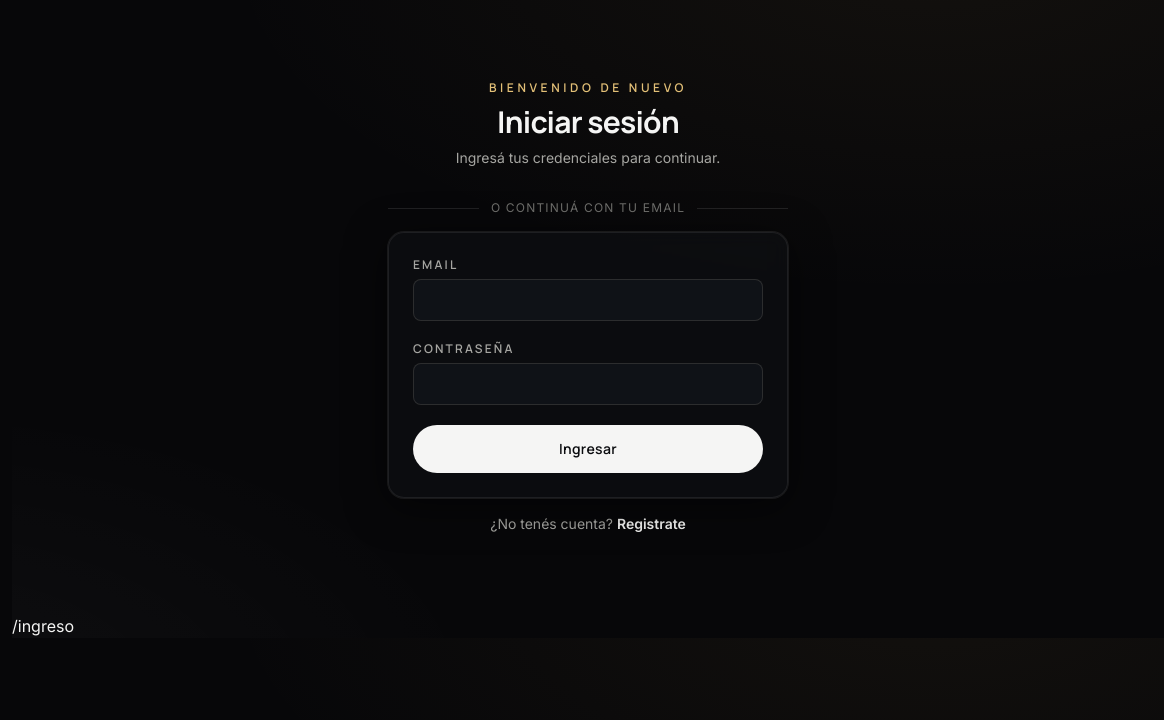
Scenario: InicioSesion › muestra el mensaje de error del backend cuando el login falla
This screenshot has width=1164, height=720.
Type "ana@ejemplo.com" into the field labelled "Email".
click(588, 300); type("ana@ejemplo.com")  # box [413,279,763,321]
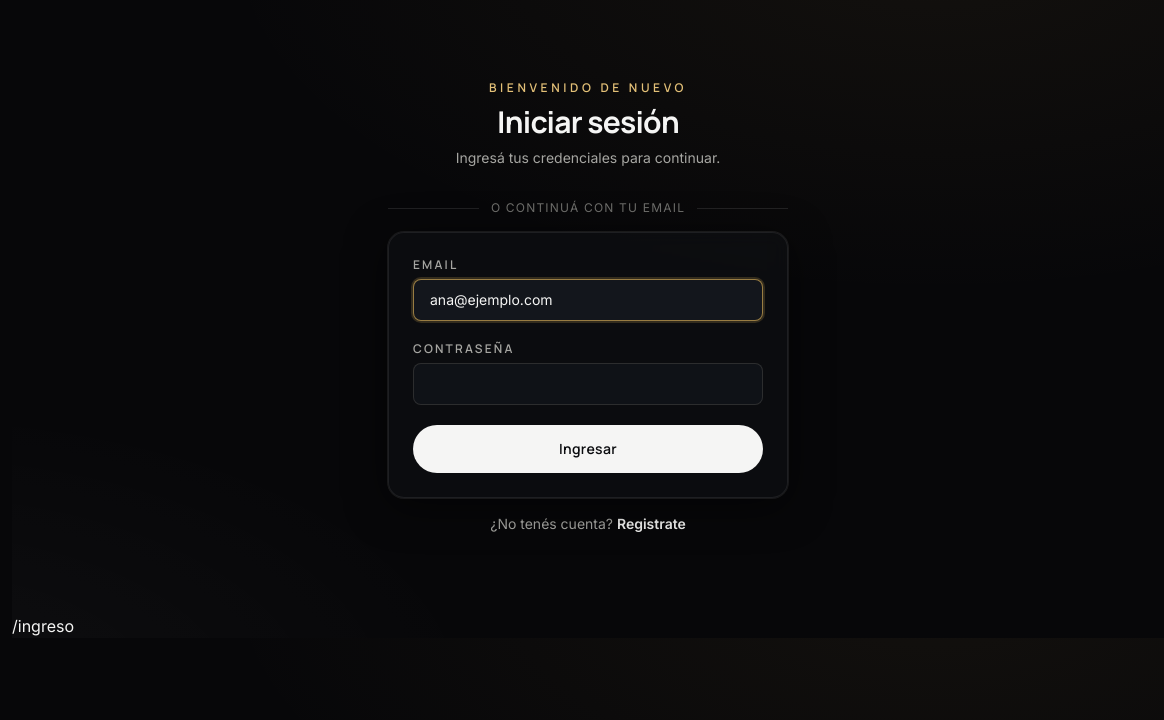
Type "secreto123" into the password field labelled "Contraseña".
click(588, 384); type("secreto123")  # box [413,363,763,405]
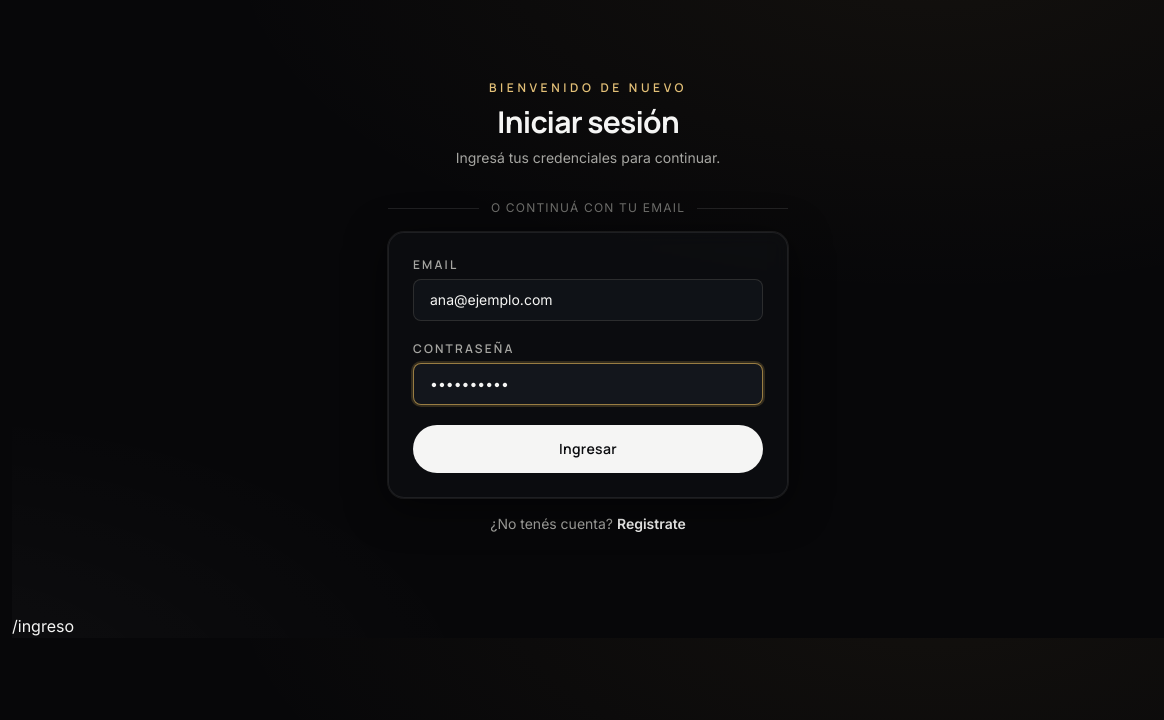
Click the button "Ingresar".
click(588, 449)  # box [413,425,763,473]
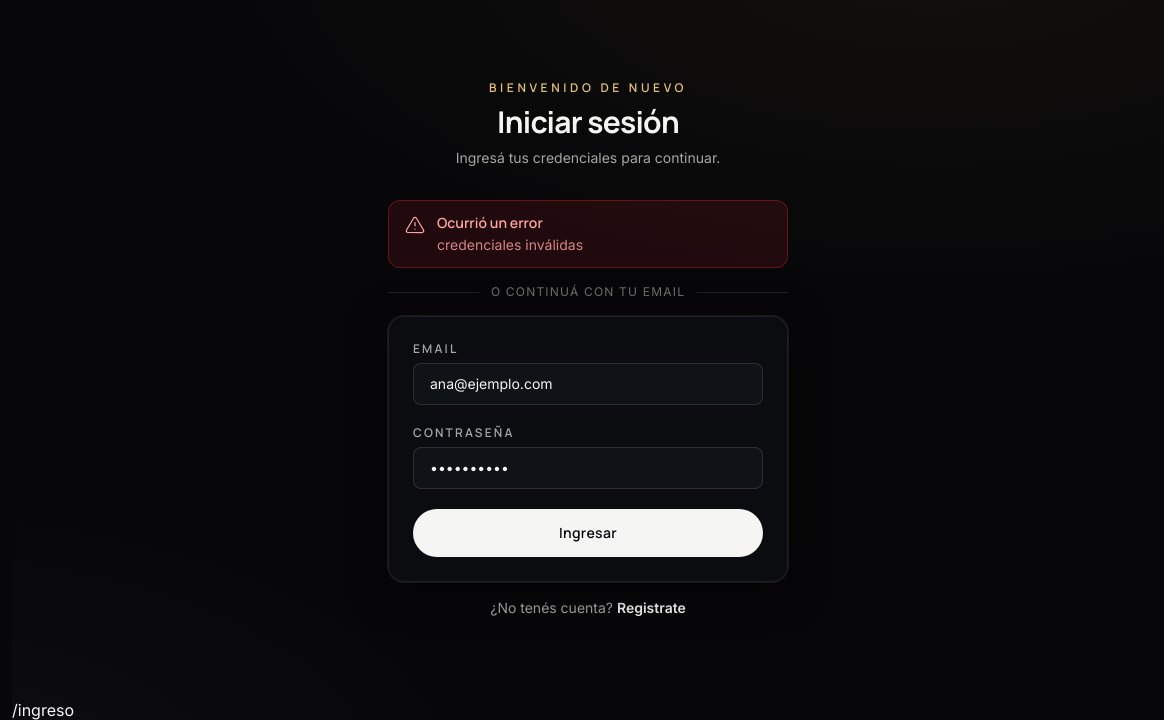
Expected: the button "Ingresar" is enabled, [413,509,763,557]
Now the text "credenciales inválidas" is shown, box [437,235,583,255]
